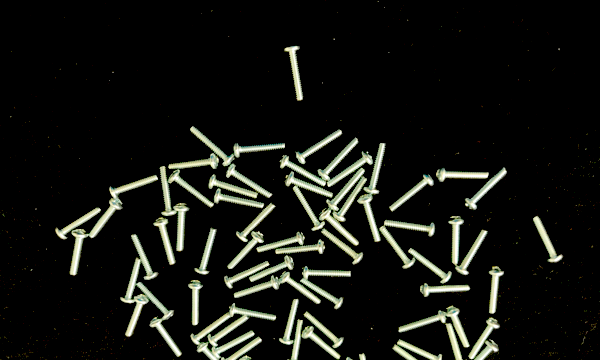longscrew: (463, 167, 509, 212), (387, 172, 436, 214), (167, 169, 216, 211), (188, 126, 237, 167), (317, 136, 360, 181), (326, 151, 374, 190), (454, 228, 491, 278), (294, 129, 344, 166), (226, 163, 276, 200), (235, 202, 278, 244), (326, 168, 366, 213), (333, 175, 369, 224), (407, 248, 454, 285), (55, 206, 103, 242), (318, 208, 361, 248), (379, 224, 416, 270), (531, 214, 565, 264), (278, 154, 328, 188), (226, 231, 266, 272), (136, 281, 177, 321), (302, 311, 345, 349), (88, 196, 125, 240), (320, 229, 365, 265), (299, 277, 346, 311), (292, 185, 326, 232), (190, 310, 234, 346), (130, 232, 161, 283), (283, 171, 335, 200), (108, 172, 160, 201), (279, 271, 322, 306), (149, 316, 184, 359), (467, 317, 501, 360), (207, 173, 259, 201), (223, 259, 271, 289), (302, 325, 343, 360), (283, 41, 306, 102), (356, 193, 383, 244), (207, 315, 250, 347), (249, 256, 296, 285), (396, 309, 448, 335), (193, 225, 220, 275), (211, 330, 257, 359), (152, 217, 178, 268), (364, 141, 388, 196), (156, 165, 179, 219), (232, 275, 281, 300), (444, 304, 471, 349), (124, 294, 151, 339), (256, 231, 306, 255), (232, 138, 288, 159), (213, 188, 266, 210), (119, 257, 143, 305), (68, 227, 90, 278), (435, 163, 491, 183), (278, 297, 300, 347), (228, 302, 278, 323), (173, 200, 192, 255), (221, 336, 264, 360), (396, 339, 444, 360), (384, 218, 437, 237), (167, 153, 220, 172), (447, 214, 466, 266), (274, 239, 327, 257), (487, 266, 506, 316), (187, 278, 206, 327), (445, 323, 470, 360), (419, 281, 472, 298), (285, 318, 306, 360), (460, 339, 500, 360), (301, 265, 354, 280), (197, 340, 235, 360), (391, 343, 435, 360), (305, 355, 355, 360), (357, 351, 380, 360), (237, 354, 256, 360)
